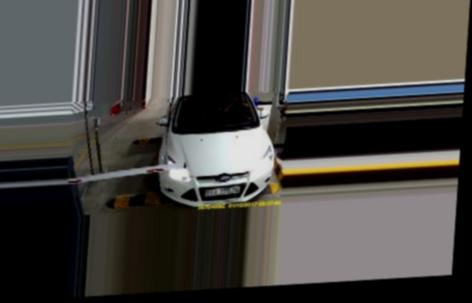License_Plate: (201, 184, 242, 199)
